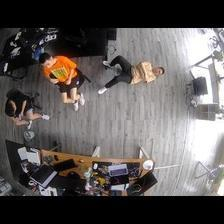fall: (95, 55, 165, 95)
normal: (42, 57, 89, 114), (7, 94, 47, 129)
